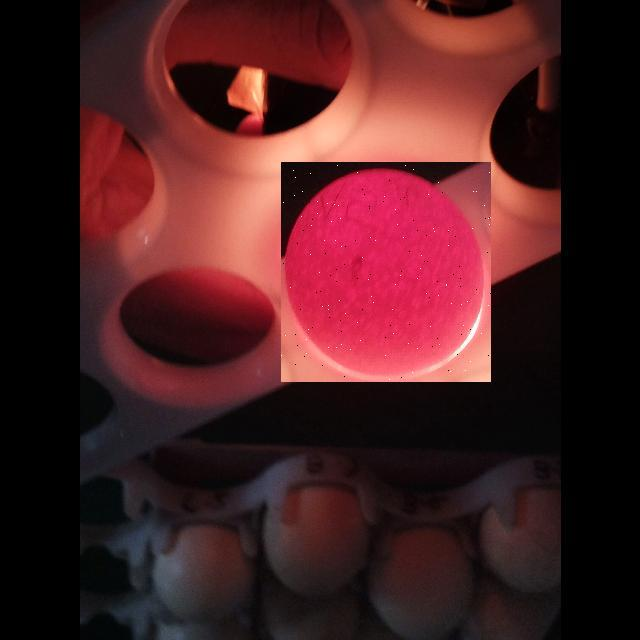Infertile: (281, 162, 491, 382)
